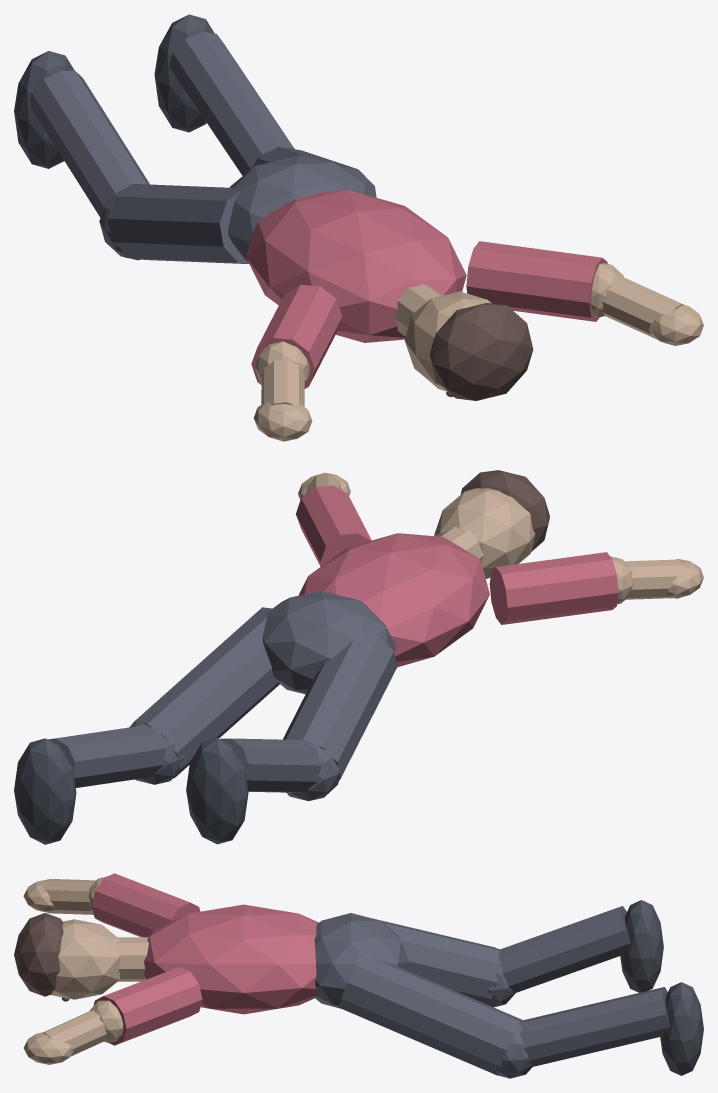
3 renders of one model, top to bottom at view 1: azimuth 30°, elevation 25°; view 2: azimuth 150°, elevation 25°; view 3: azimuth 270°, elevation 25°, orthographic. The views are drawn at different scales.
Visible parts, largest first — view 1: world; view 2: world; view 3: world.
Boxes of the visible parts, box(x1,y1,x2,y2) form: world: box(14, 14, 703, 441); world: box(14, 470, 703, 844); world: box(14, 873, 703, 1078).
Size of the model in its own units: 1.17 by 0.3942 by 2.
